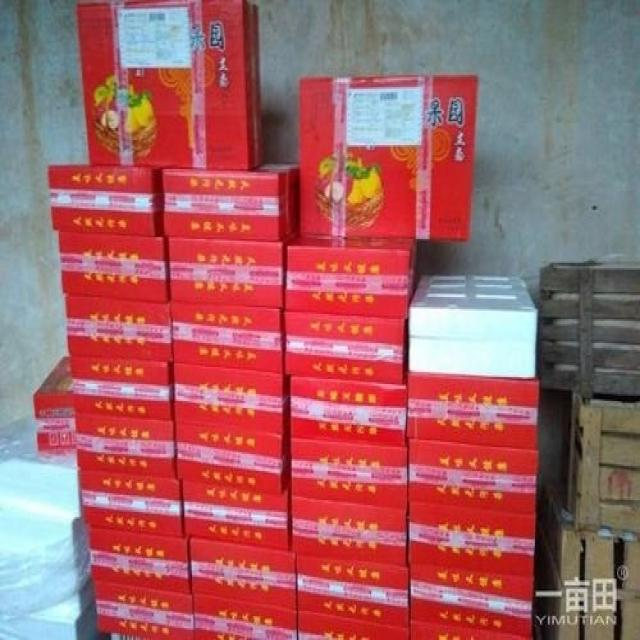box: (78, 1, 265, 172), (300, 72, 479, 239), (285, 231, 418, 317), (406, 372, 541, 453), (163, 162, 301, 241), (407, 438, 538, 516), (407, 502, 536, 576), (282, 307, 404, 385), (411, 563, 534, 638), (287, 373, 408, 447), (171, 361, 291, 434), (174, 423, 293, 495), (290, 434, 409, 506), (295, 554, 412, 627), (170, 300, 285, 373), (47, 164, 165, 234), (289, 495, 407, 564), (167, 237, 289, 303), (187, 539, 297, 608), (181, 483, 294, 549), (78, 470, 186, 538), (60, 232, 169, 298), (69, 355, 173, 423), (73, 413, 177, 479), (66, 297, 170, 361), (87, 530, 190, 594), (92, 581, 195, 638), (195, 593, 298, 638), (298, 612, 410, 638), (34, 353, 72, 418), (410, 623, 533, 638), (35, 415, 76, 447)
